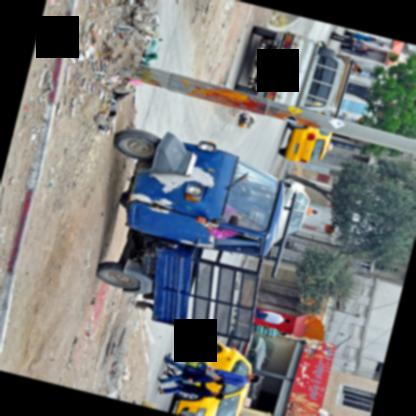backpack: (184, 357, 207, 371)
